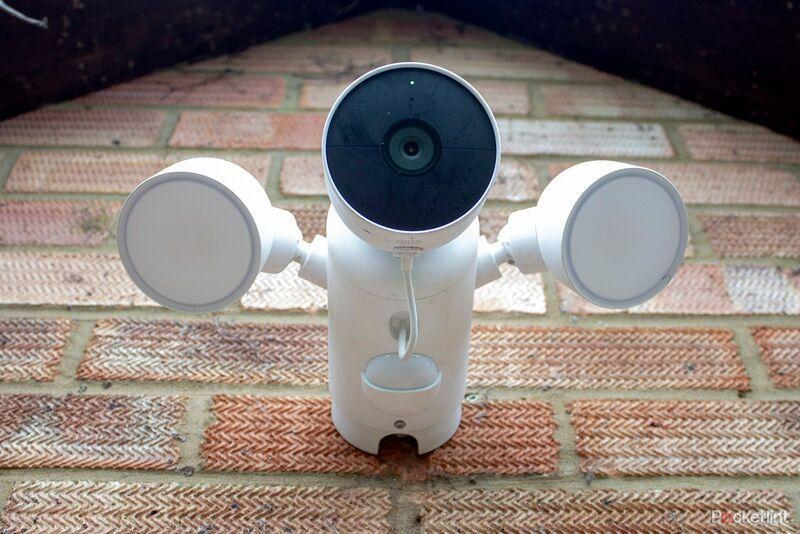nest: (318, 58, 506, 262)
